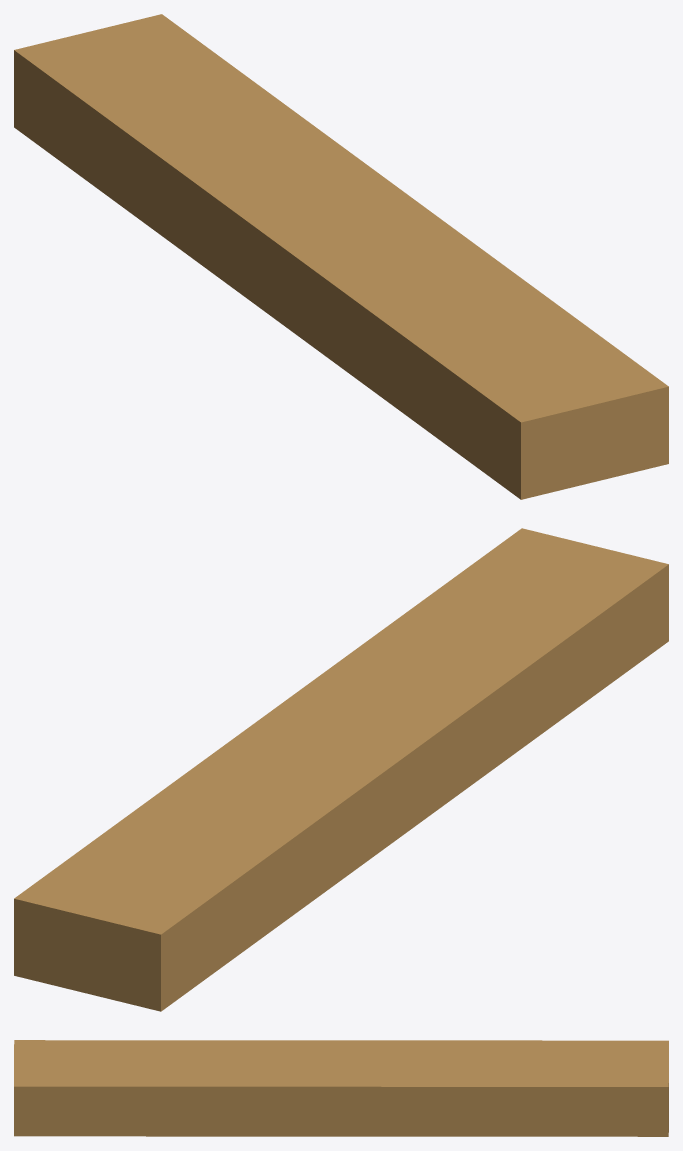
3 renders of one model, top to bottom at view 1: azimuth 30°, elevation 25°; view 2: azimuth 150°, elevation 25°; view 3: azimuth 270°, elevation 25°, orthographic. The views are drawn at different scales.
Parts seen in each view (by area): view 1: RUN-064-S00-NOG-02; view 2: RUN-064-S00-NOG-02; view 3: RUN-064-S00-NOG-02.
Part boxes in pixels (x1=…): RUN-064-S00-NOG-02: x1=14, y1=14, x2=668, y2=499; RUN-064-S00-NOG-02: x1=14, y1=528, x2=668, y2=1011; RUN-064-S00-NOG-02: x1=14, y1=1040, x2=668, y2=1136.
Size of the model in its own units: 0.0908 by 0.045 by 0.5361.
